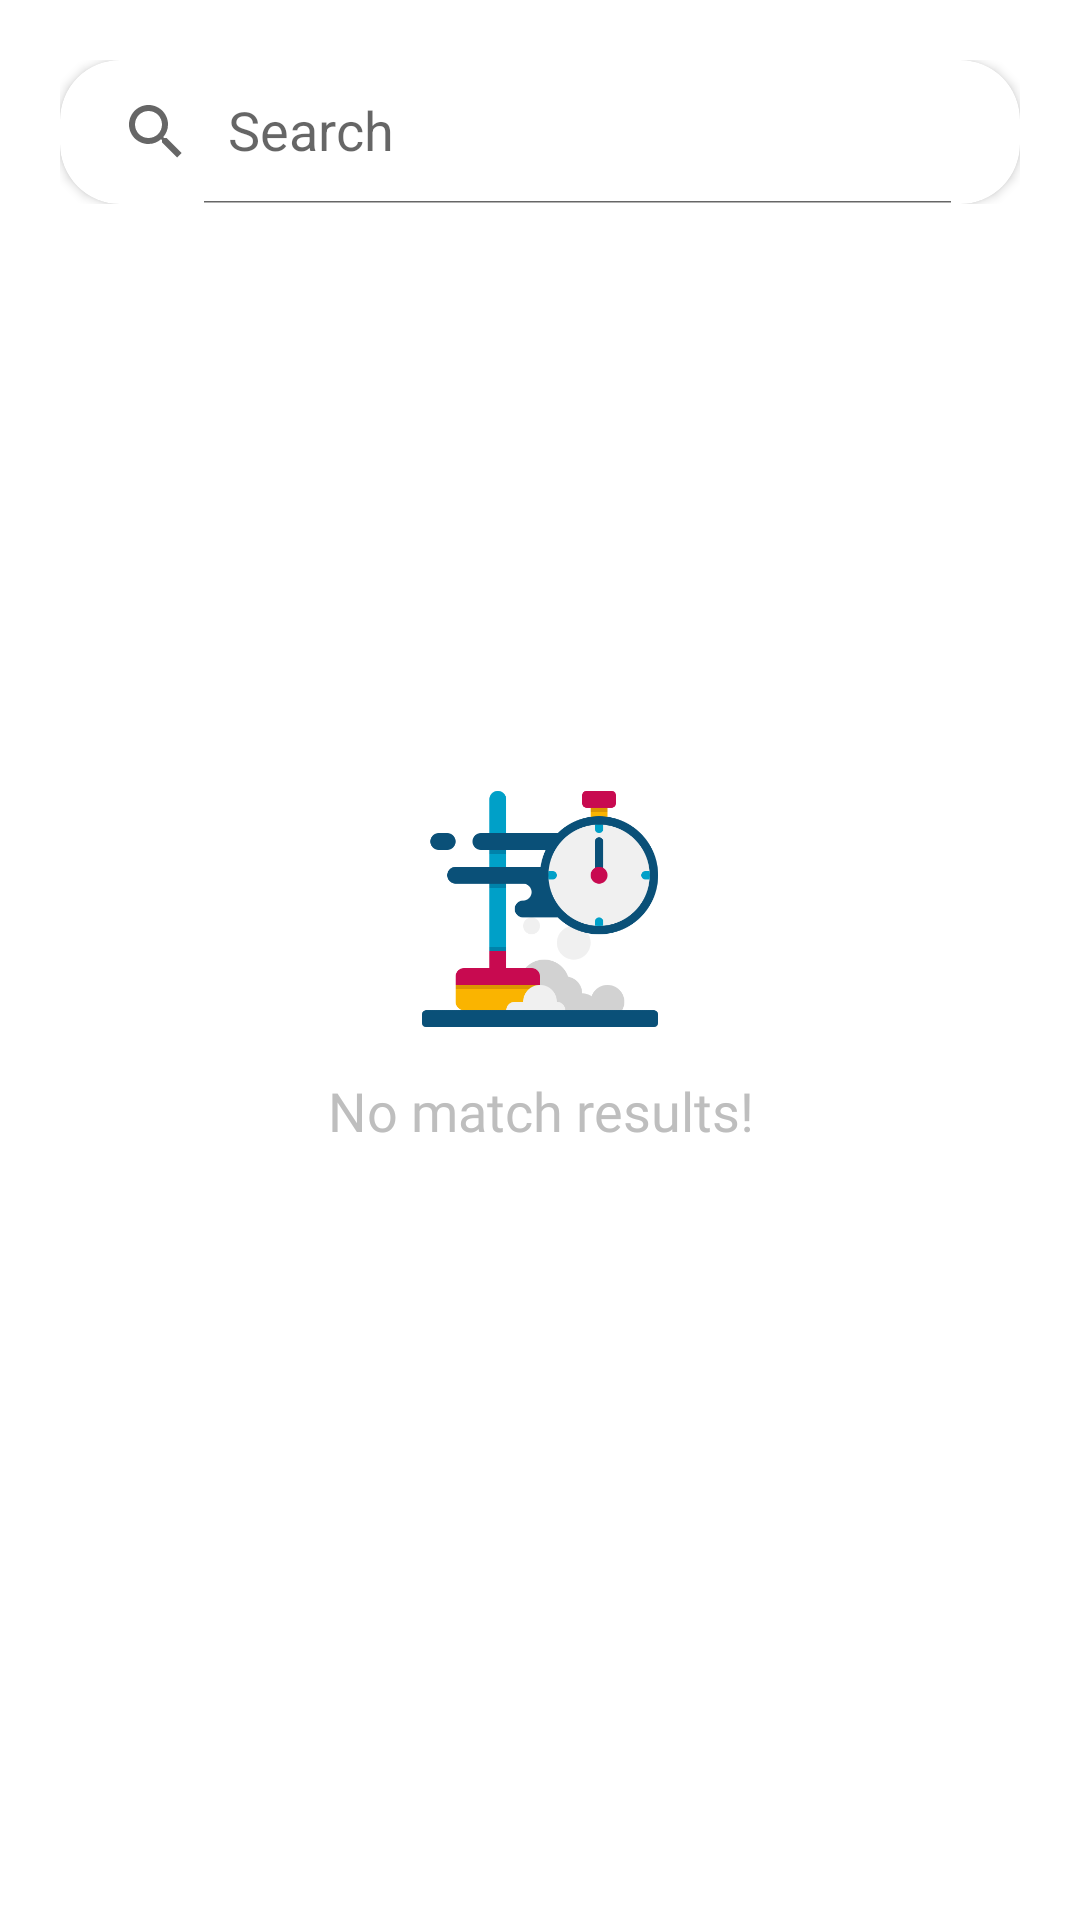

Icons on this 1080×1920 Android screen, each with its box as {"left": x1, "top": y1, "right": x2, "bottom": y2}:
cleaning: {"left": 422, "top": 791, "right": 658, "bottom": 1027}
